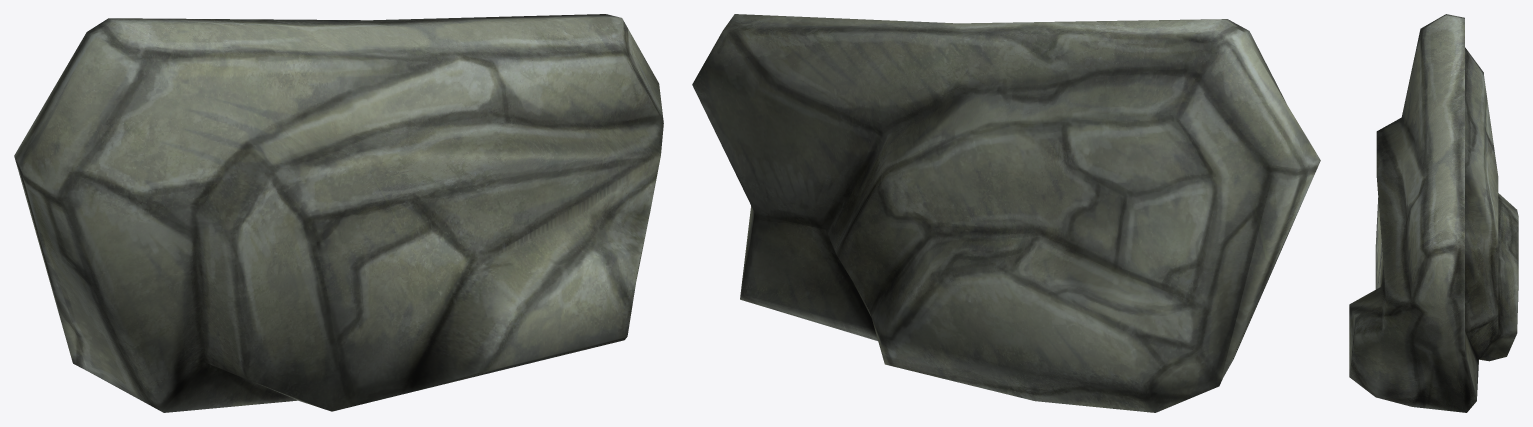
The model's file is beach rock flat.FBX.
The picture shows the model from 3 angles, left to right: view 1: azimuth 30°, elevation 25°; view 2: azimuth 150°, elevation 25°; view 3: azimuth 270°, elevation 25°; orthographic projection. The views are drawn at different scales.
Parts seen in each view (by area): view 1: Object001; view 2: Object001; view 3: Object001.
Part boxes in pixels (bbox=[...]): Object001: bbox=[14, 14, 663, 412]; Object001: bbox=[692, 14, 1320, 412]; Object001: bbox=[1349, 14, 1518, 412].
Size of the model in its own units: 4.96 by 2.92 by 1.8.
